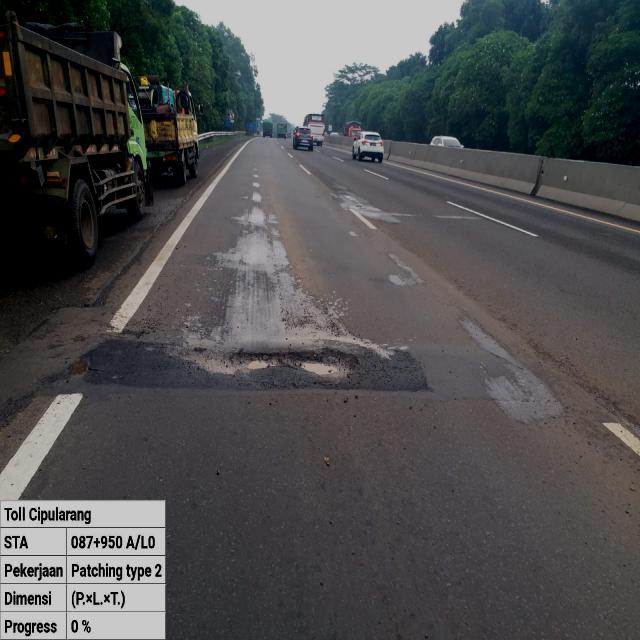Buraco: (140, 339, 363, 389)
